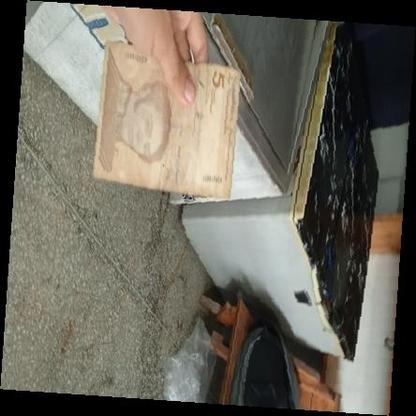five-front-vef: (92, 39, 242, 200)
